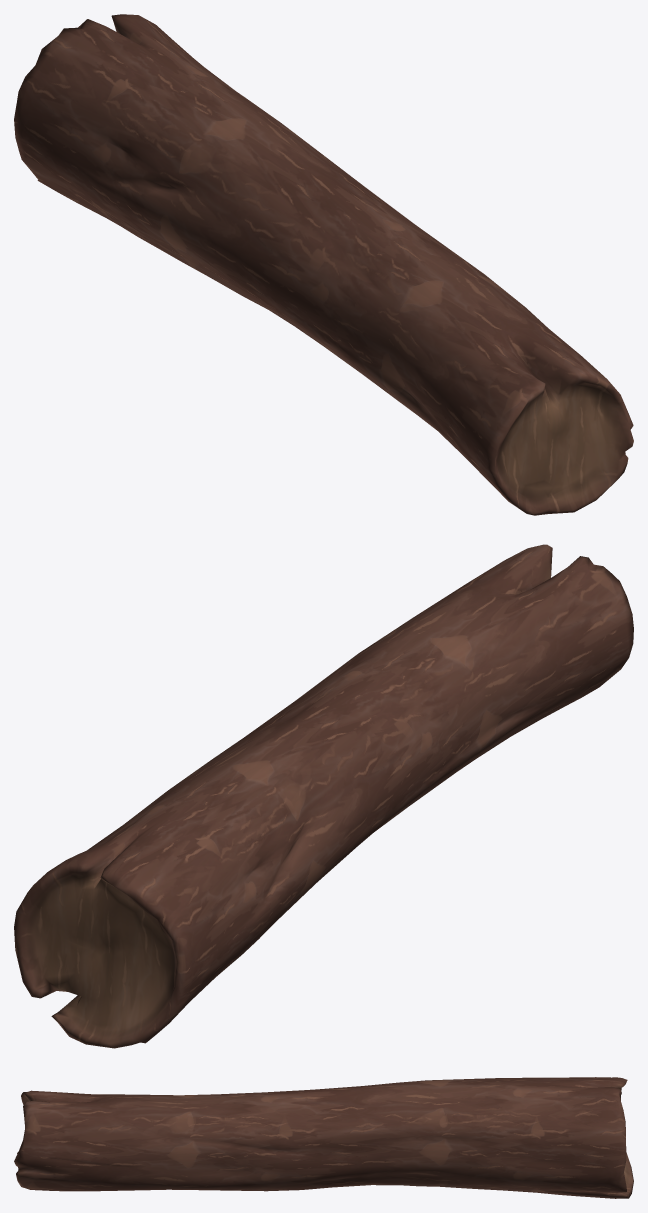
Rendered from Log.fbx.
3 renders of one model, top to bottom at view 1: azimuth 30°, elevation 25°; view 2: azimuth 150°, elevation 25°; view 3: azimuth 270°, elevation 25°, orthographic. The views are drawn at different scales.
Parts seen in each view (by area): view 1: LogLow; view 2: LogLow; view 3: LogLow.
Part boxes in pixels (x1,y1,x2,y2): LogLow: (14,14,633,515); LogLow: (14,544,633,1048); LogLow: (14,1077,633,1198).
Bounding box in the file's own units: 41.37 × 40.34 × 203.
